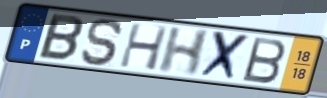B: (36, 11, 86, 63), (241, 35, 289, 85)
H: (155, 26, 213, 78), (117, 21, 171, 72)
S: (79, 17, 126, 69)
X: (196, 29, 253, 84)
